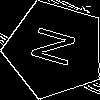N: (30, 24, 87, 73)
